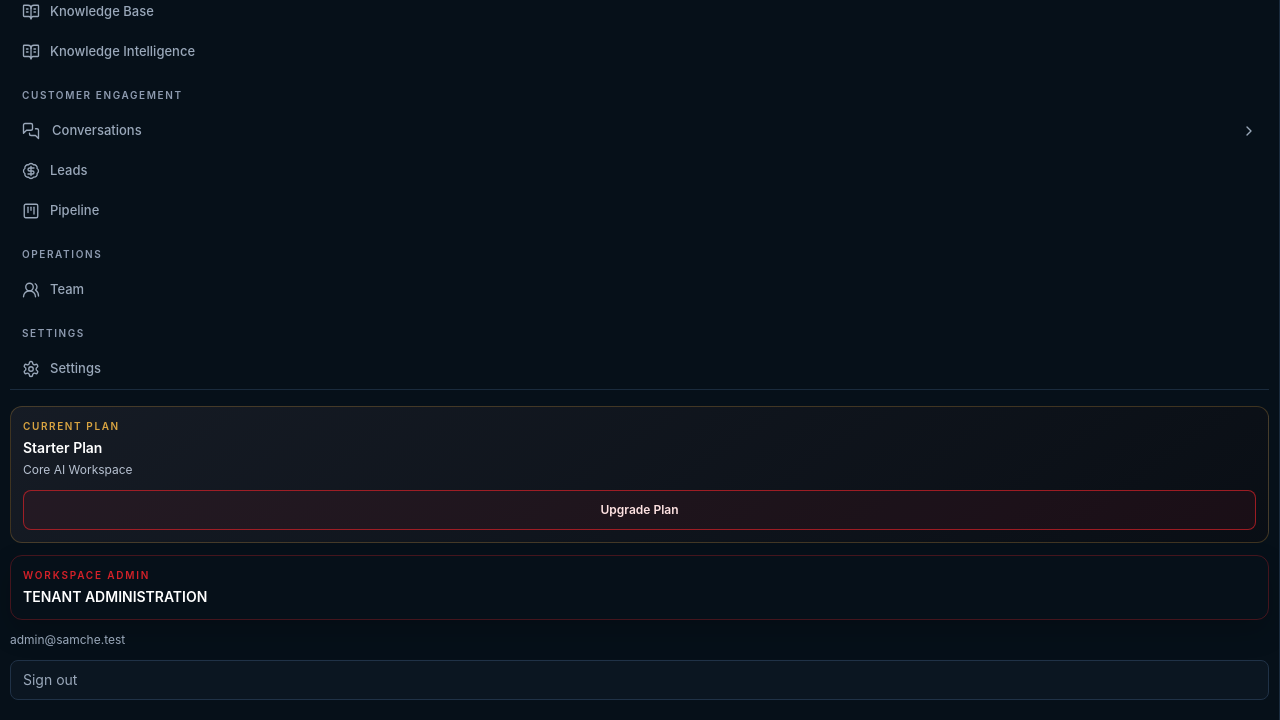
workspace access presentation › keeps the current plan card unchanged and shows pending status only inside Upgrade Plan
(page scrolled)
expect the text "Starter Plan" is shown: met, box [23,439,102,456]
expect the text "Pending approval" is not shown: met
Click the button "Upgrade Plan": (640, 510) [23,490,1256,530]
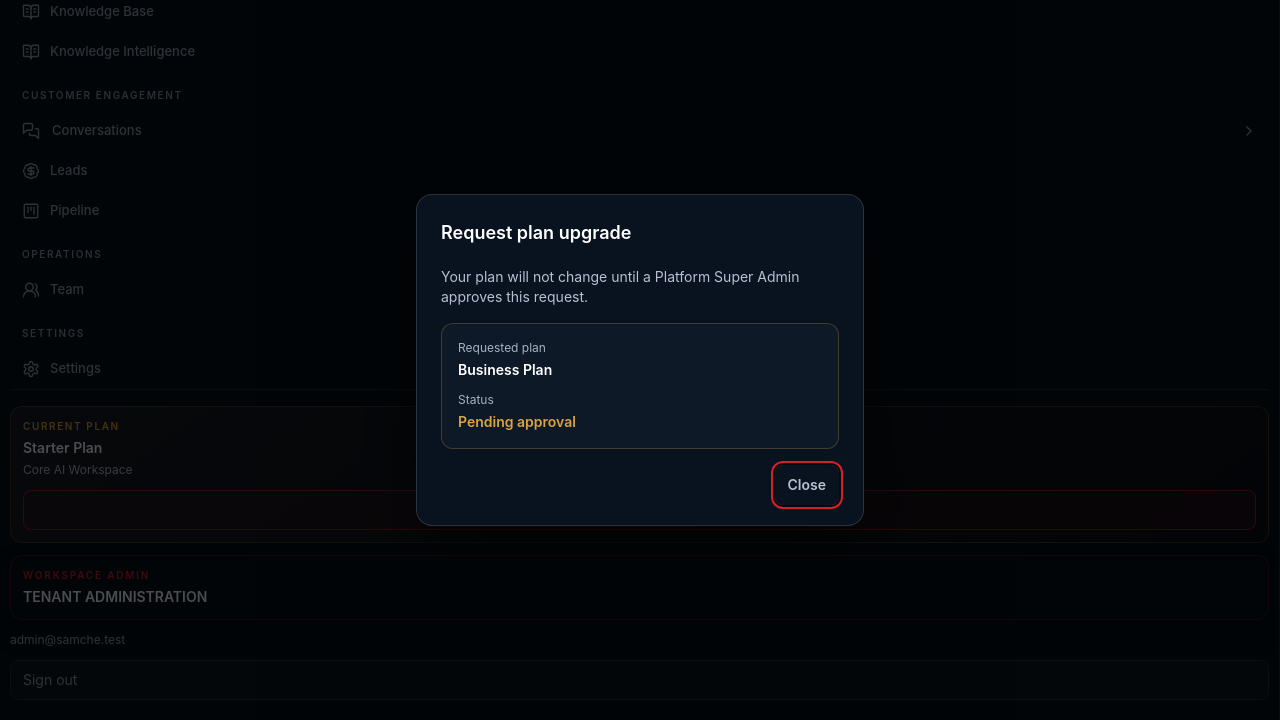
expect the text "Pending approval" is shown: met, box [458,413,576,430]
expect the text "Business Plan" is shown: met, box [458,361,552,378]
